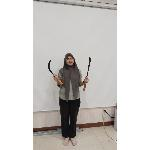Celurit: (47, 57, 67, 87)
Golok: (82, 55, 94, 93)
